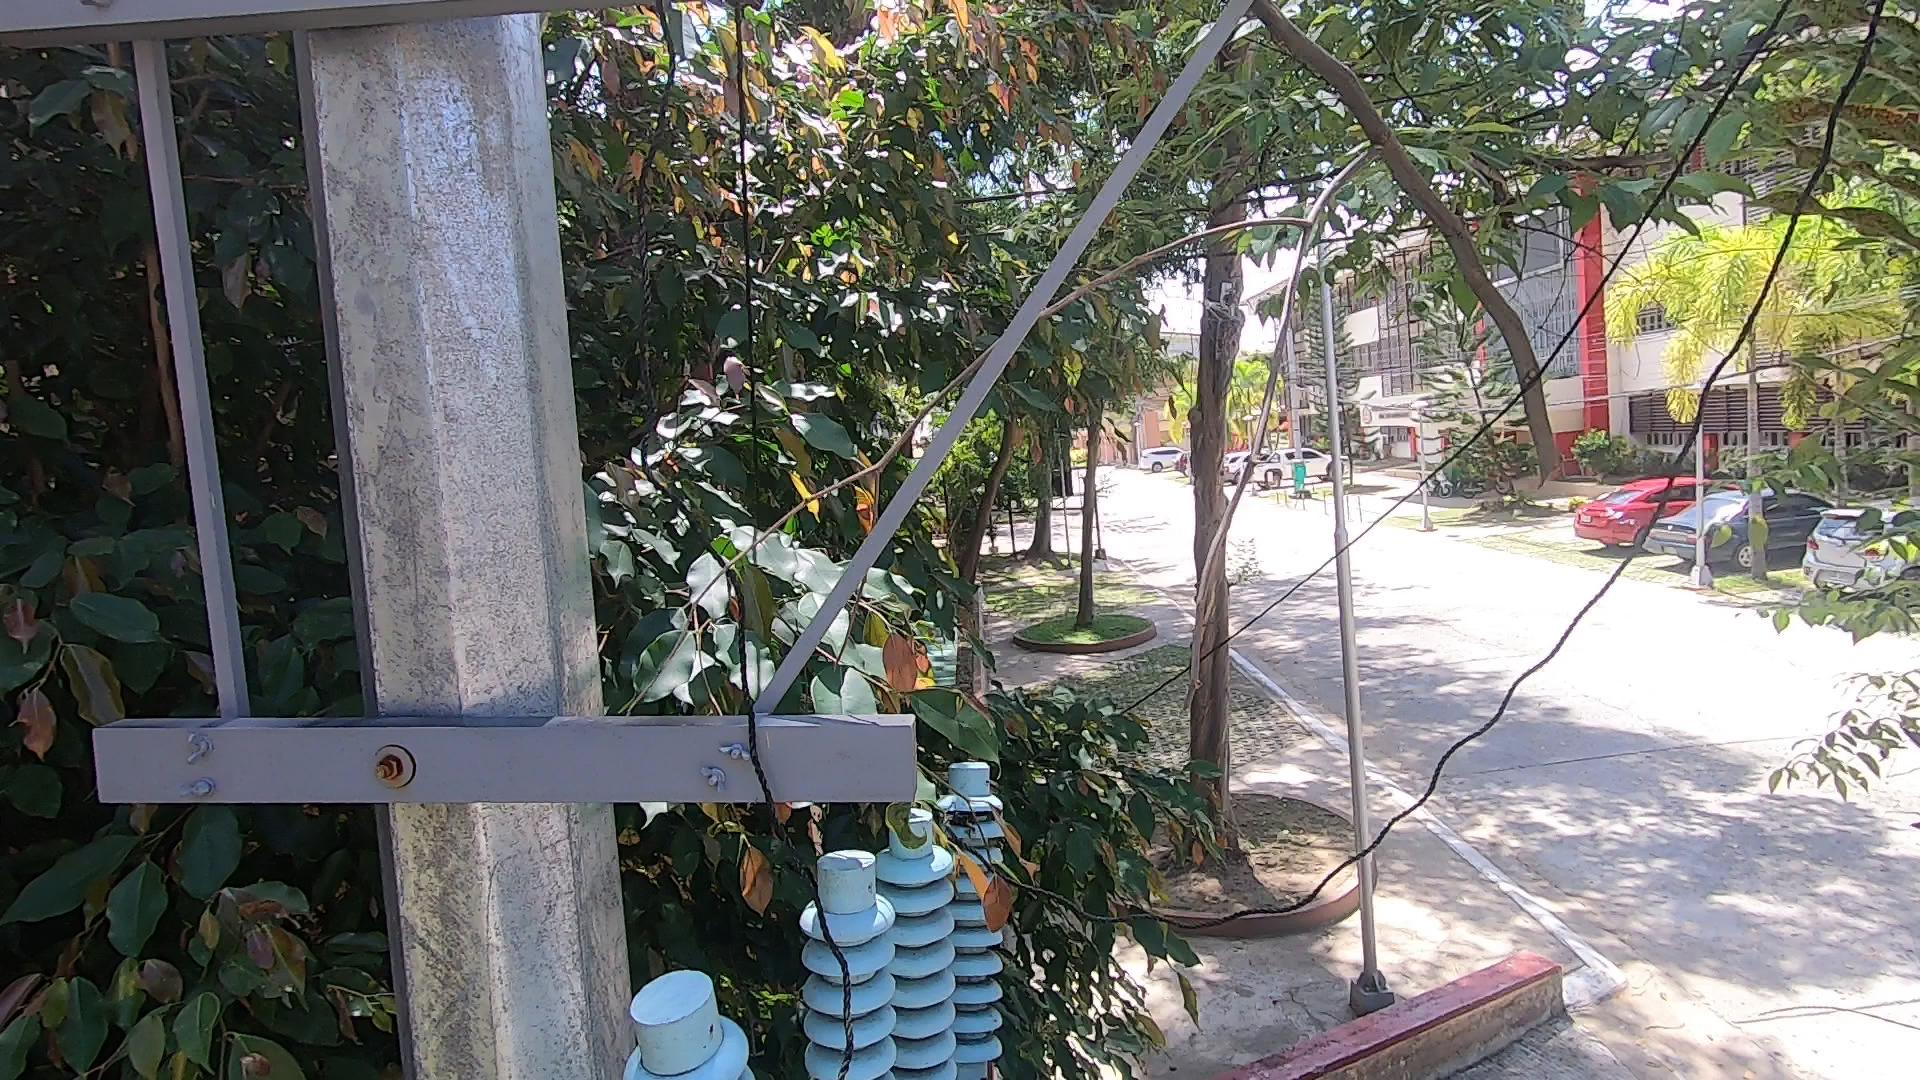tree branch: (688, 1, 1592, 712)
